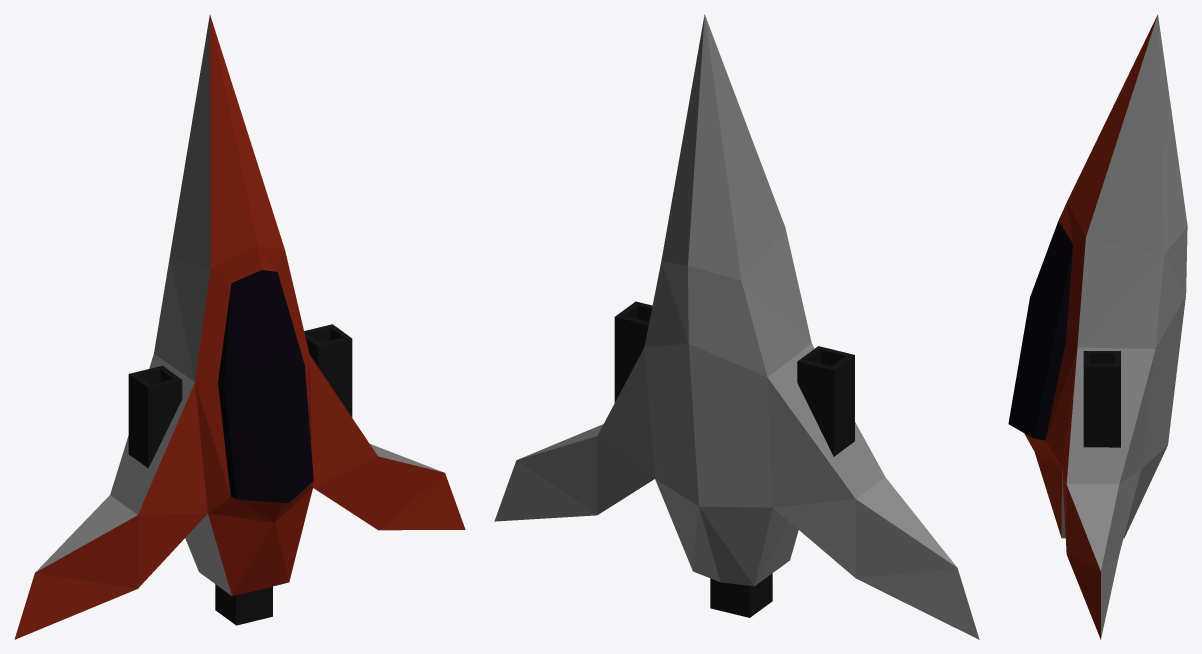
The model's file is spaceship.obj.
3 views of the same model, side by side, from view 1: azimuth 30°, elevation 25°; view 2: azimuth 150°, elevation 25°; view 3: azimuth 270°, elevation 25° (orthographic). The views are drawn at different scales.
Parts seen in each view (by area): view 1: Cube_Cube.001; view 2: Cube_Cube.001; view 3: Cube_Cube.001.
Part boxes in pixels (bbox=[...]): Cube_Cube.001: bbox=[14, 15, 465, 639]; Cube_Cube.001: bbox=[494, 14, 979, 639]; Cube_Cube.001: bbox=[1008, 14, 1187, 639].
Size of the model in its own units: 5.31 by 6.46 by 1.92.
